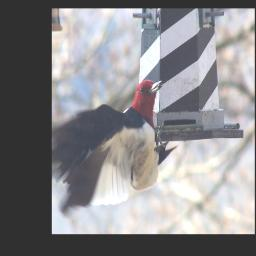Woodpecker: (52, 72, 174, 211)
